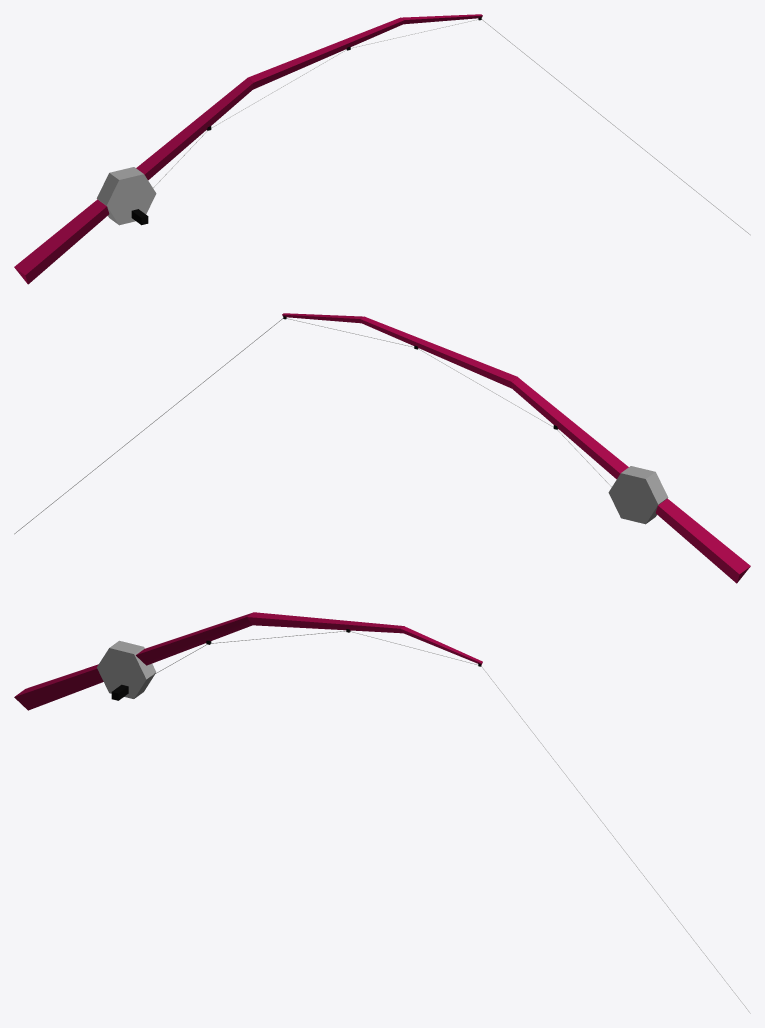
File: fishing_rod.glb
3 renders of one model, top to bottom at view 1: azimuth 30°, elevation 25°; view 2: azimuth 150°, elevation 25°; view 3: azimuth 330°, elevation 25°, orthographic.
Parts seen in each view (by area): view 1: Object_2; view 2: Object_2; view 3: Object_2.
Boxes of the visible parts, x1,y1,x2,y2 form: Object_2: (14, 14, 750, 284); Object_2: (14, 313, 750, 583); Object_2: (14, 612, 750, 1013).
Bounding box in the file's own units: 846 × 333 × 41.41.
